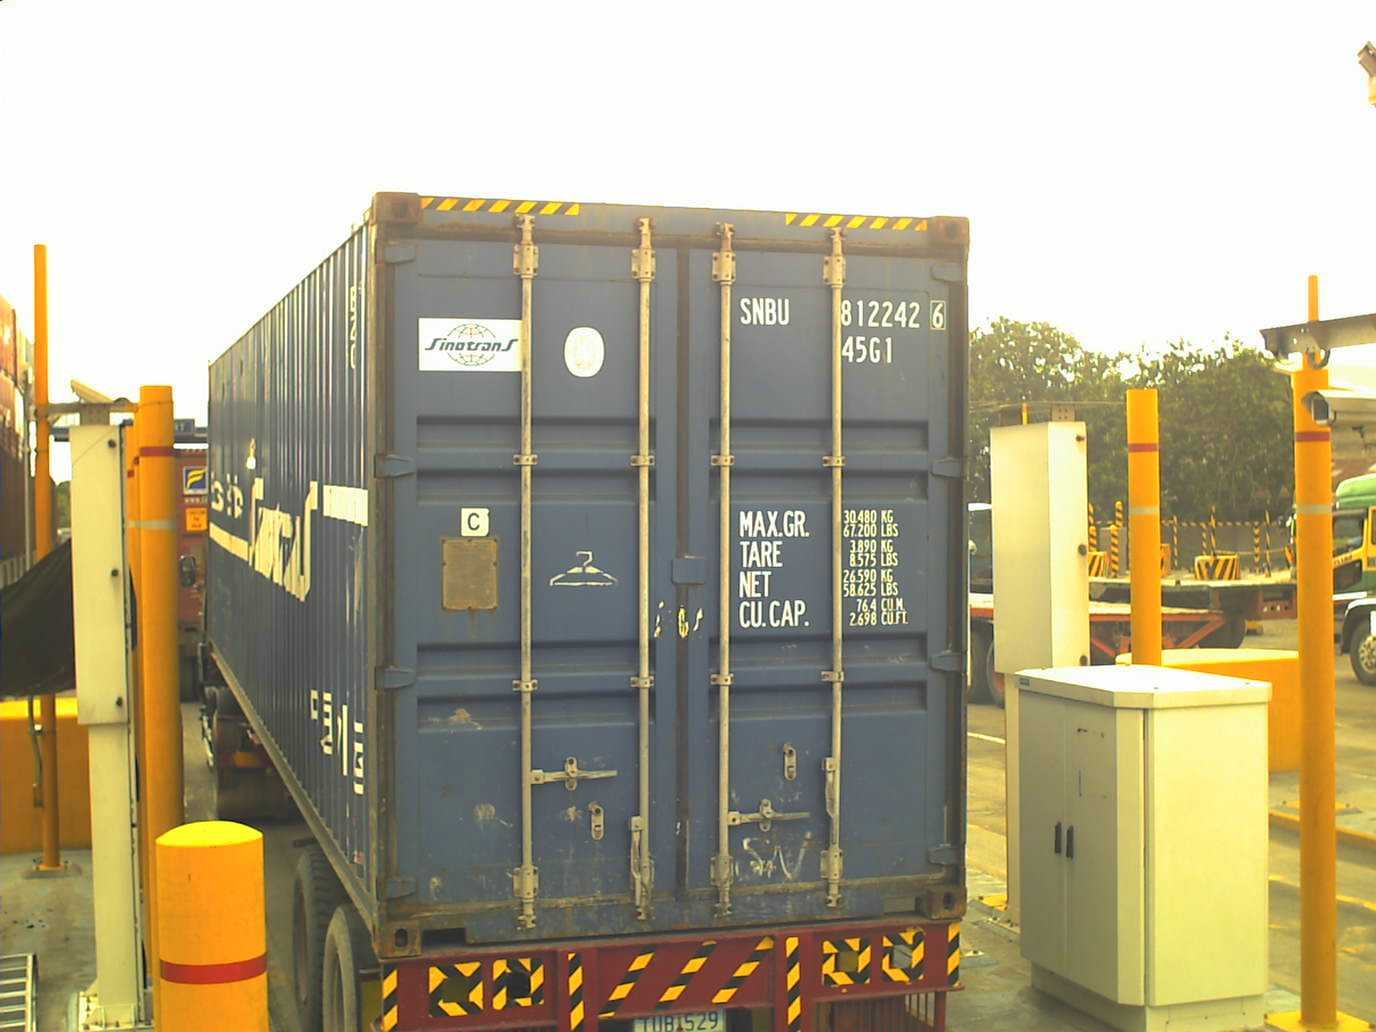container_door: (368, 196, 981, 929)
